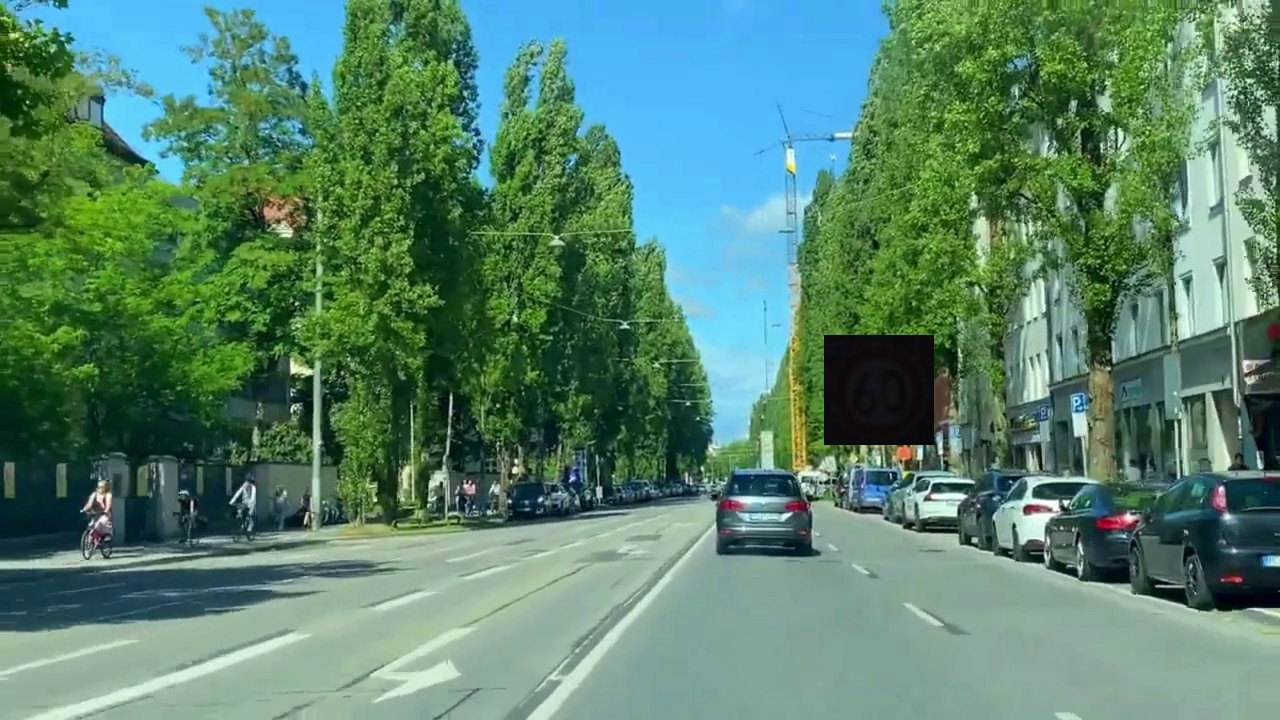Speed 60: (824, 335, 934, 445)
